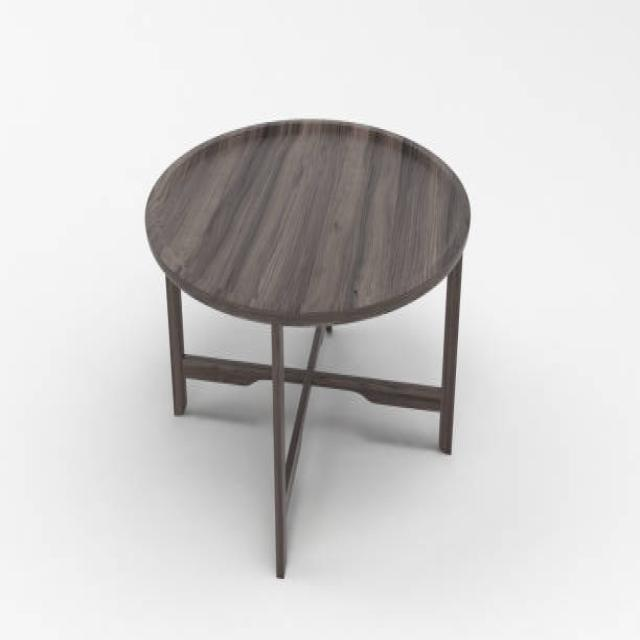table: (143, 115, 471, 577)
